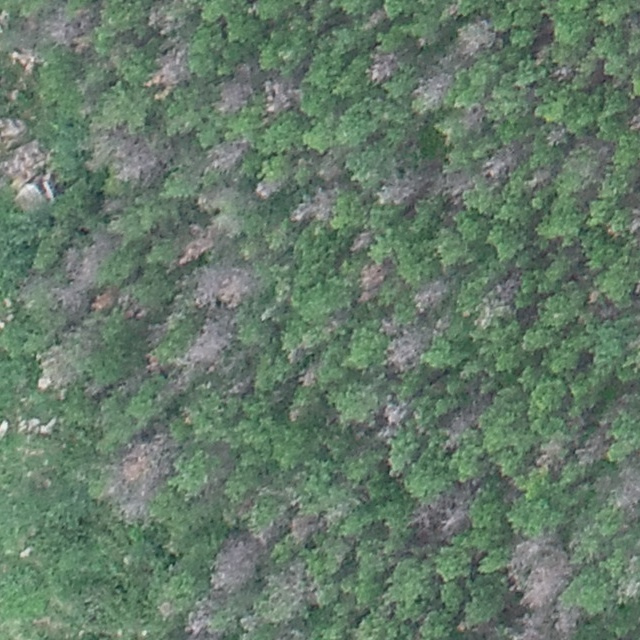unhealthy: (103, 432, 176, 519), (511, 536, 573, 607), (98, 130, 172, 186), (408, 490, 471, 541), (181, 319, 233, 375), (211, 534, 259, 593), (54, 234, 110, 283), (40, 7, 95, 51), (478, 269, 522, 323), (147, 42, 192, 93), (272, 562, 322, 606), (384, 326, 428, 374), (215, 263, 260, 308), (442, 399, 485, 445), (374, 169, 426, 206), (178, 222, 221, 265), (453, 17, 498, 58), (203, 137, 252, 174), (292, 188, 338, 226), (608, 458, 639, 513), (479, 142, 521, 182), (411, 70, 453, 109), (262, 77, 300, 118), (183, 598, 220, 640), (214, 82, 256, 117), (411, 277, 449, 314), (356, 258, 387, 301), (289, 510, 326, 546), (578, 428, 613, 466), (50, 283, 90, 316), (189, 267, 222, 307), (144, 3, 184, 34), (365, 48, 399, 84), (533, 435, 566, 472), (195, 183, 235, 212), (511, 612, 553, 639), (440, 171, 474, 204), (552, 605, 583, 639), (380, 399, 411, 428), (459, 103, 488, 133), (253, 175, 283, 200), (526, 165, 554, 191), (614, 577, 640, 603), (348, 229, 375, 254), (363, 5, 388, 30), (230, 59, 257, 81), (627, 201, 640, 243), (295, 365, 320, 386), (544, 125, 567, 147), (624, 9, 640, 35), (89, 290, 112, 308), (551, 65, 573, 82), (628, 104, 640, 131)
